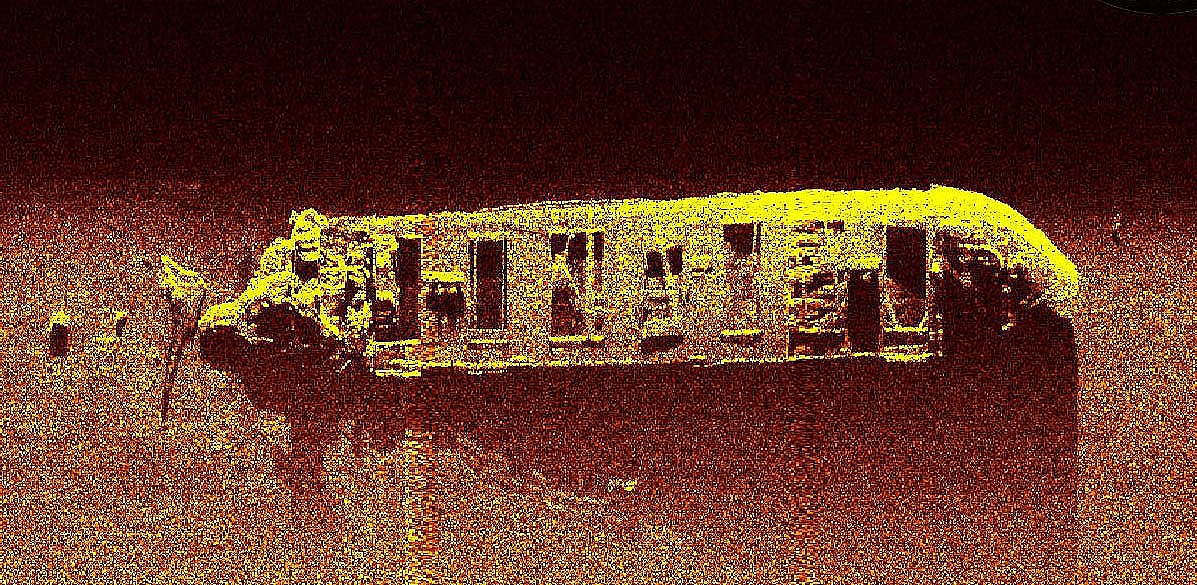ship: (192, 180, 1084, 384)
